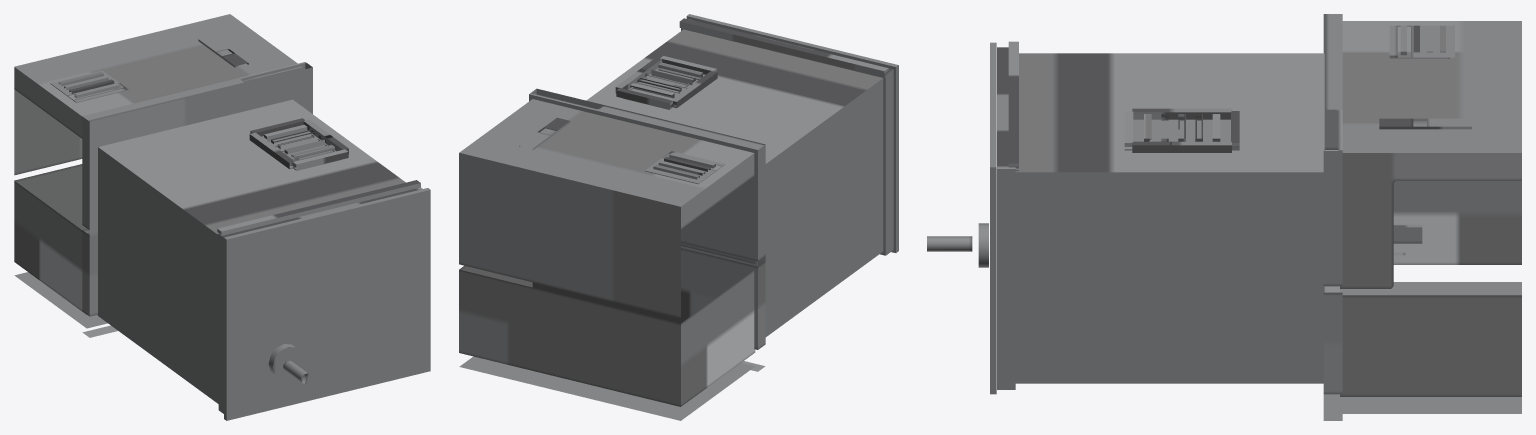
3 renders of one model, left to right at view 1: azimuth 30°, elevation 25°; view 2: azimuth 150°, elevation 25°; view 3: azimuth 270°, elevation 25°, orthographic. The views are drawn at different scales.
Size of the model in its own units: 0.94 by 0.87 by 1.73.
